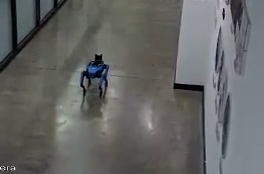robot dog: (78, 50, 110, 105)
